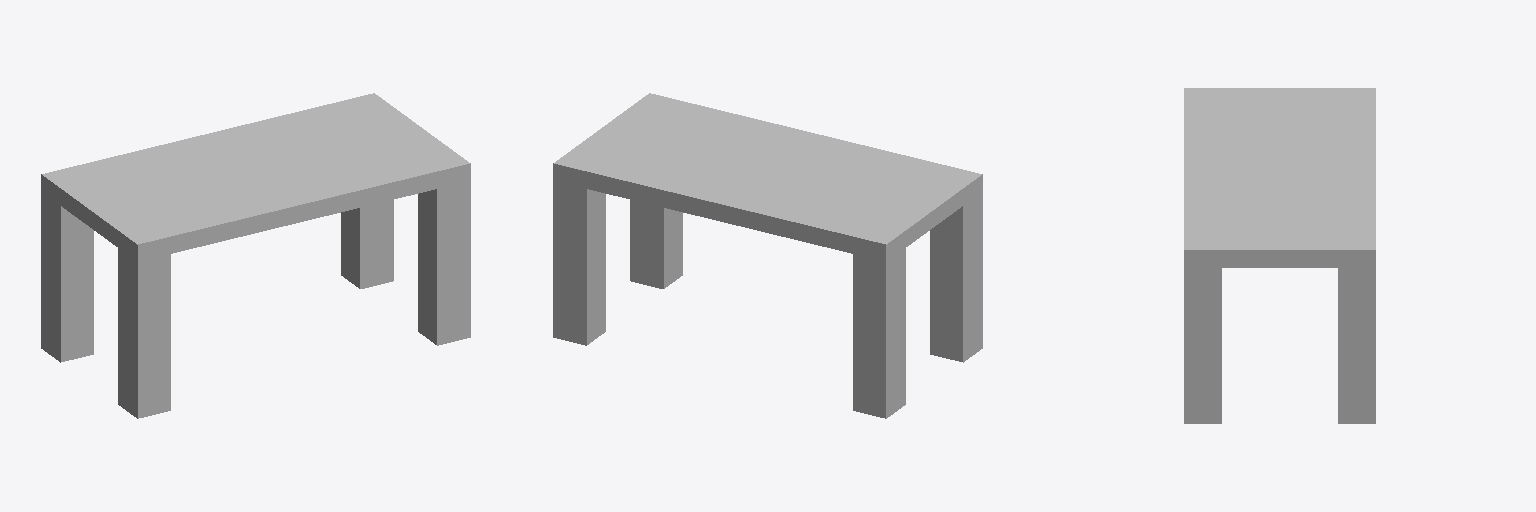
Rendered from furniture_table_01.obj.
3 views of the same model, side by side, from view 1: azimuth 30°, elevation 25°; view 2: azimuth 150°, elevation 25°; view 3: azimuth 270°, elevation 25° (orthographic).
Visible parts, largest first — view 1: Cube_(13); view 2: Cube_(13); view 3: Cube_(13).
Boxes of the visible parts, x1,y1,x2,y2 form: Cube_(13): [41, 93, 470, 418]; Cube_(13): [553, 93, 982, 418]; Cube_(13): [1184, 88, 1375, 423].
Size of the model in its own units: 5 by 2.5 by 2.5.